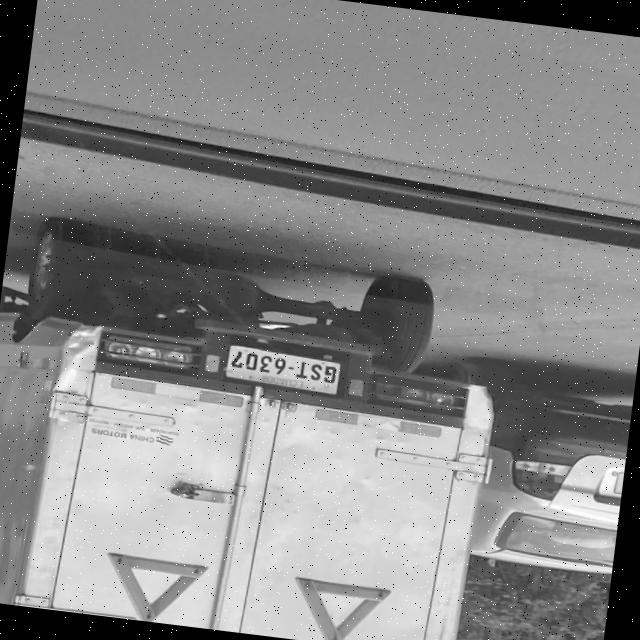Placa: (225, 345, 339, 393), (613, 471, 623, 493)
